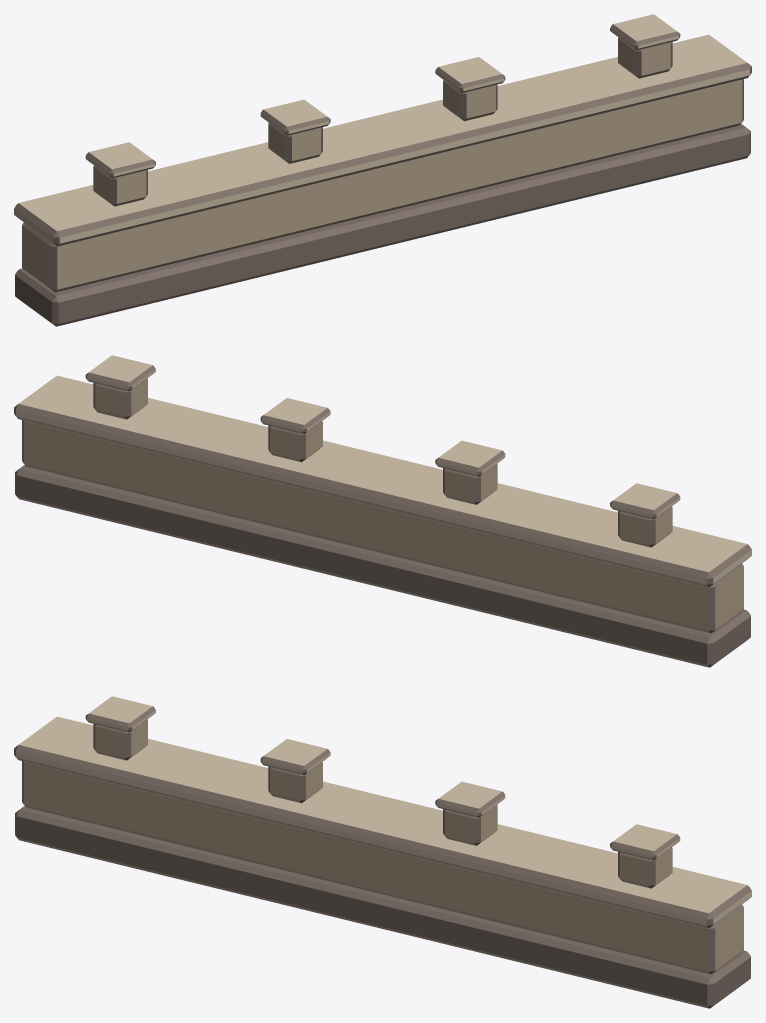
The model's file is cannon_parapet.glb.
3 renders of one model, top to bottom at view 1: azimuth 30°, elevation 25°; view 2: azimuth 150°, elevation 25°; view 3: azimuth 330°, elevation 25°, orthographic.
Visible parts, largest first — view 1: cannon_parapet; view 2: cannon_parapet; view 3: cannon_parapet.
Boxes of the visible parts, x1,y1,x2,y2 form: cannon_parapet: [14, 14, 751, 326]; cannon_parapet: [14, 355, 751, 667]; cannon_parapet: [14, 696, 751, 1008].
Size of the model in its own units: 4.8 by 0.9 by 0.52.
